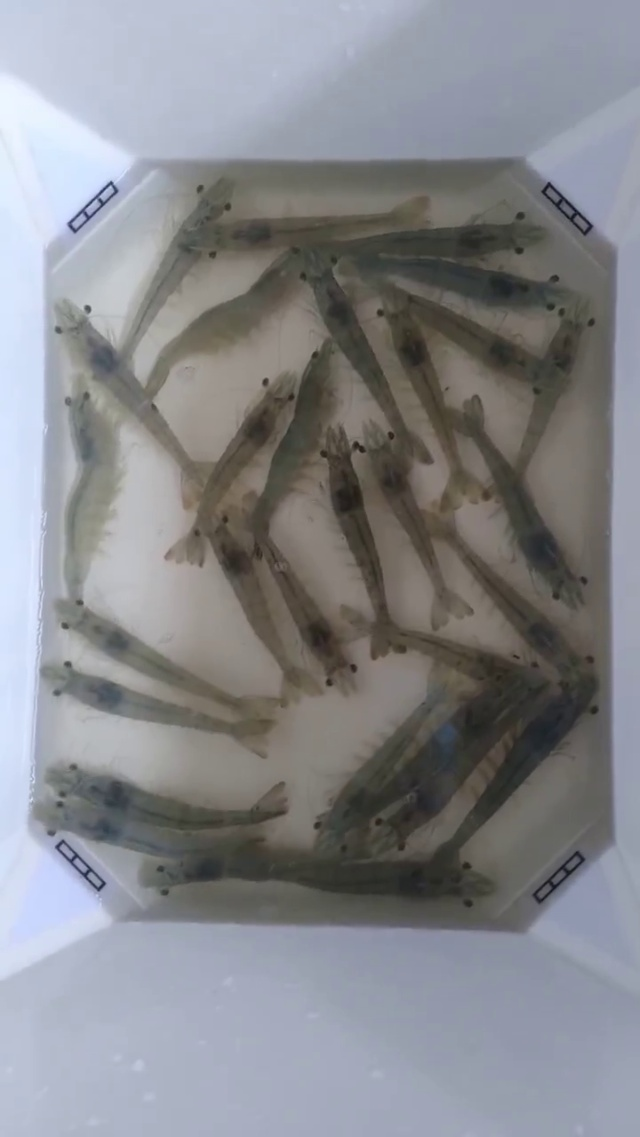shrimp: (167, 428, 283, 665), (562, 161, 639, 486), (566, 408, 639, 736), (473, 291, 588, 477), (0, 762, 100, 969), (440, 161, 567, 309), (140, 782, 287, 904), (38, 765, 150, 918), (144, 176, 268, 314), (46, 200, 140, 372), (587, 493, 639, 801), (86, 323, 193, 472), (421, 774, 514, 926), (260, 340, 334, 531), (263, 770, 371, 892), (370, 570, 487, 678), (43, 601, 149, 718), (32, 699, 119, 838), (65, 375, 126, 562), (0, 211, 47, 453), (250, 619, 331, 754), (333, 231, 437, 335), (352, 358, 432, 486), (406, 443, 490, 562), (238, 215, 372, 274), (320, 410, 372, 549)
